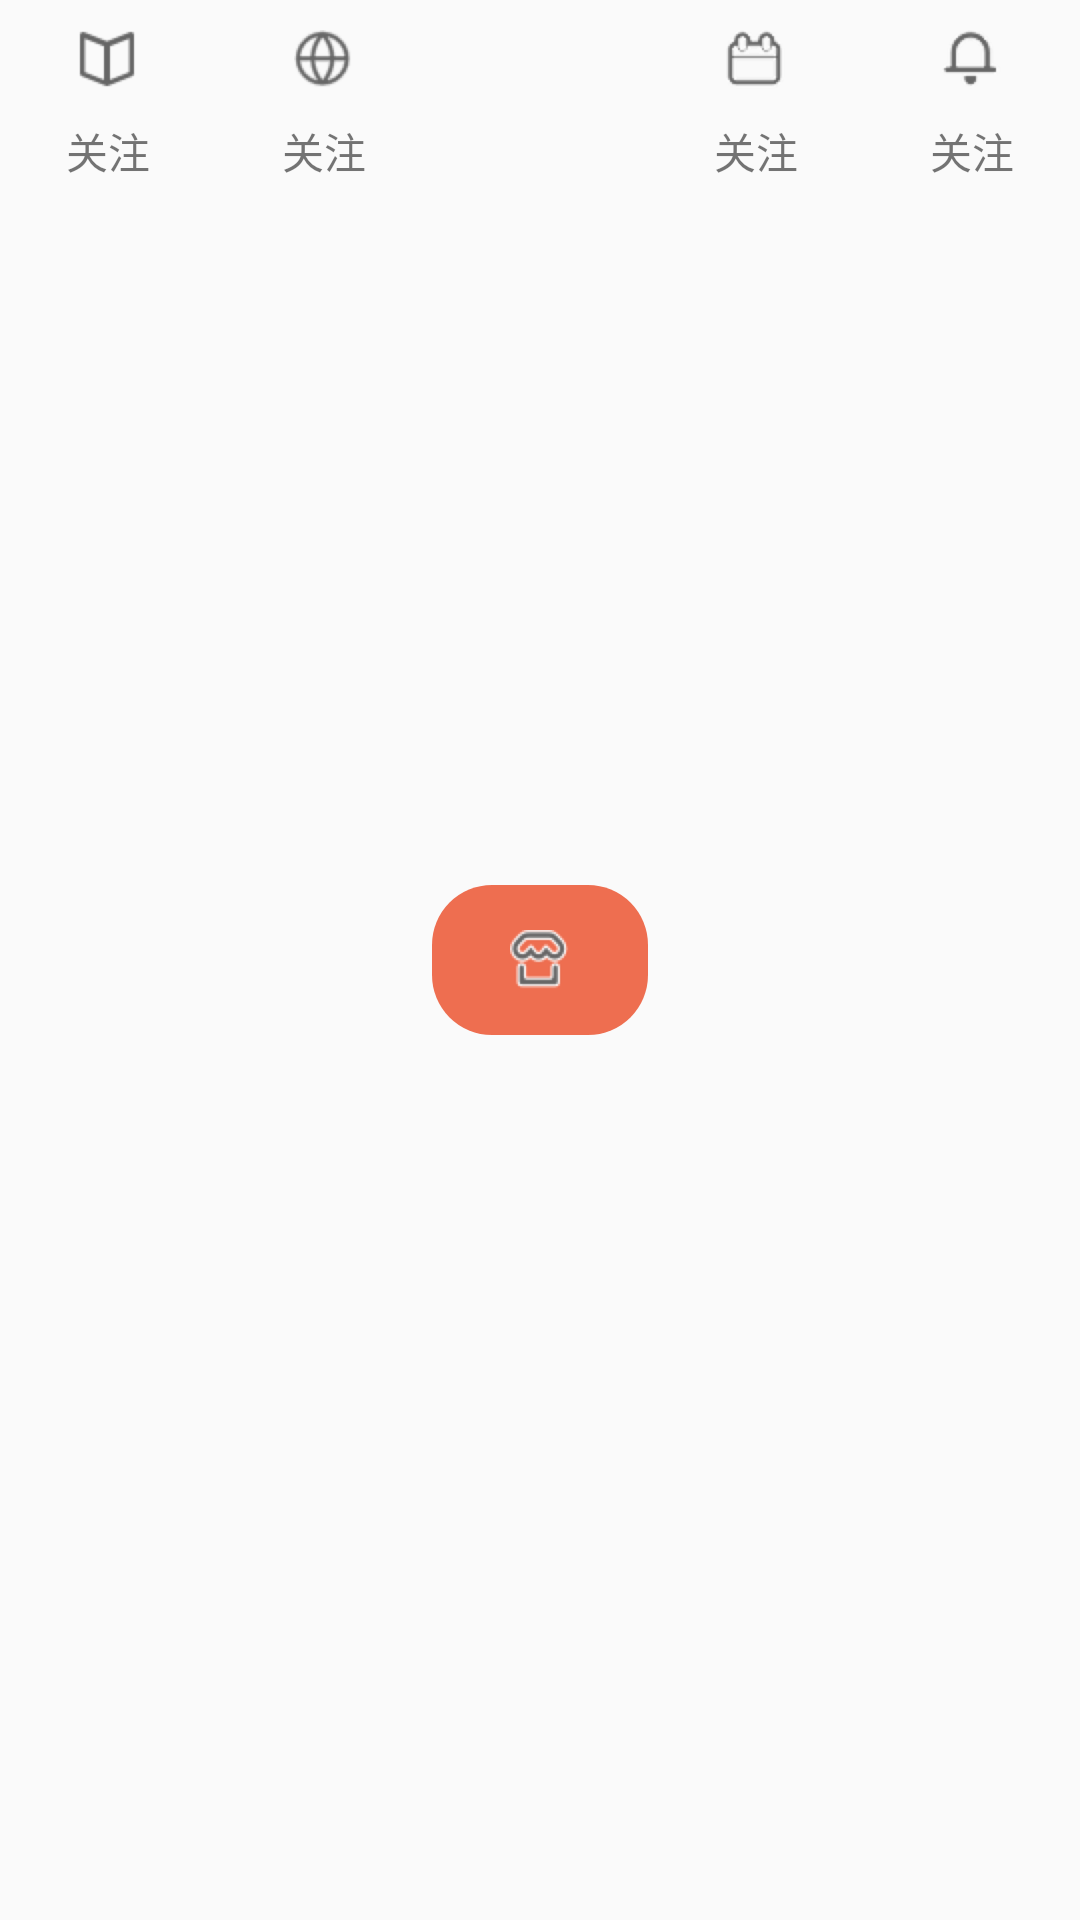

Icons on this 1080 x 1920 Android screen, each with the point to tap as (x,y):
drawer market: (540,960)
